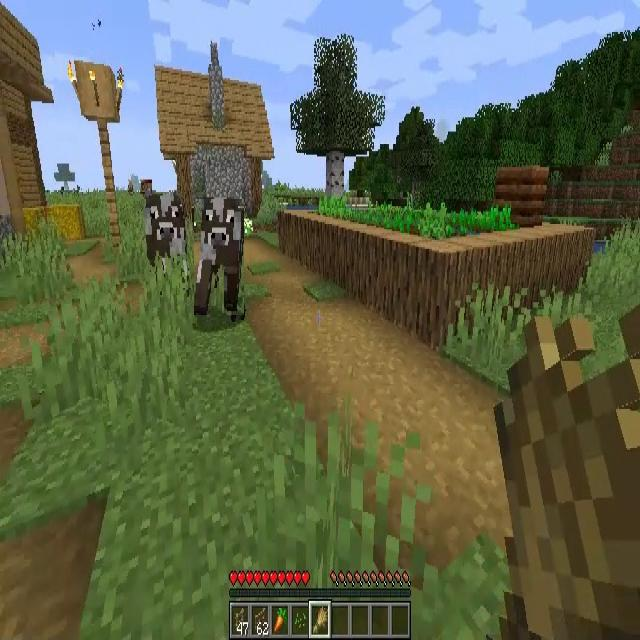cow: (194, 199, 244, 315), (145, 196, 185, 276)
